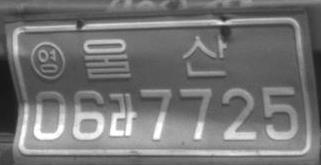0: (32, 90, 67, 141)
2: (220, 87, 257, 141)
5: (261, 86, 299, 141)
6: (71, 89, 105, 141)
7: (178, 87, 212, 140), (140, 87, 172, 140)
라: (108, 92, 137, 137)
영: (30, 41, 65, 80)
울산_D: (82, 34, 227, 80)
